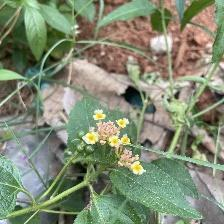common lanthana: (84, 106, 150, 179)
